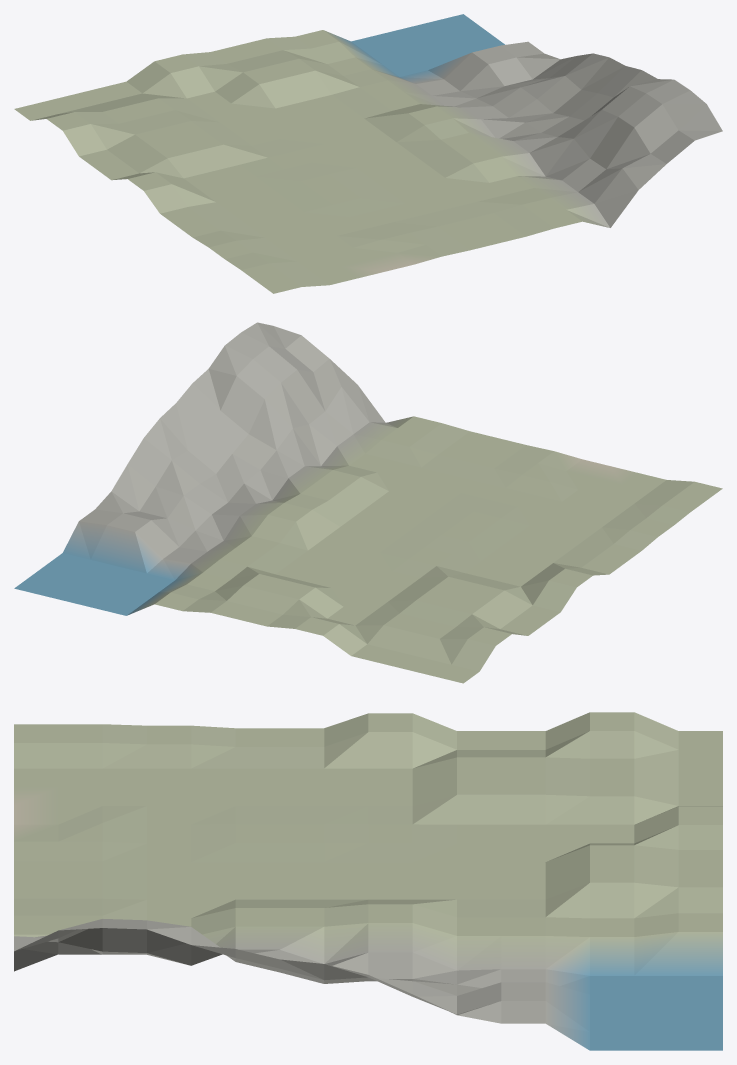
3 renders of one model, top to bottom at view 1: azimuth 30°, elevation 25°; view 2: azimuth 150°, elevation 25°; view 3: azimuth 270°, elevation 25°, orthographic. The views are drawn at different scales.
Size of the model in its own units: 32 by 6.12 by 32.
